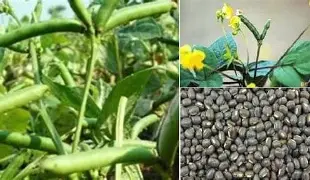crops: (0, 0, 176, 177), (179, 83, 310, 175)
